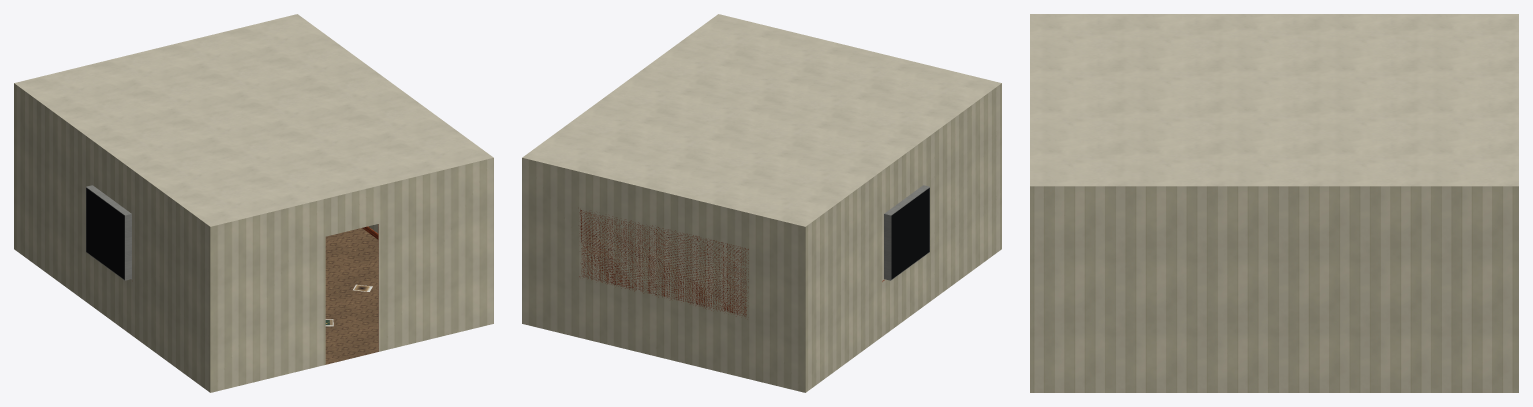
The model's file is clue_room.glb.
The picture shows the model from 3 angles, left to right: view 1: azimuth 30°, elevation 25°; view 2: azimuth 150°, elevation 25°; view 3: azimuth 270°, elevation 25°; orthographic projection. The views are drawn at different scales.
Visible parts, largest first — view 1: Wall_Clue.001, Ceiling_Room.001, Carpet_Clue.001, Window_Void, Window_Frame; view 2: Wall_Clue.001, Ceiling_Room.001, Wood_Dark, Window_Void, Window_Frame; view 3: Wall_Clue.001, Ceiling_Room.001.
Part boxes in pixels (x1,y1,x2,y2): Wall_Clue.001: (14, 83, 493, 392); Ceiling_Room.001: (14, 14, 493, 226); Carpet_Clue.001: (325, 228, 378, 364); Window_Void: (86, 188, 124, 279); Window_Frame: (86, 185, 131, 280); Wall_Clue.001: (522, 83, 1001, 392); Ceiling_Room.001: (522, 14, 1001, 226); Wood_Dark: (579, 209, 748, 316); Window_Void: (891, 188, 929, 279); Window_Frame: (884, 185, 929, 280); Wall_Clue.001: (1030, 186, 1518, 392); Ceiling_Room.001: (1030, 14, 1518, 186).
Bounding box in the file's own units: 5.12 × 2.8 × 6.
Materials: 19 (10 with a texture image).
